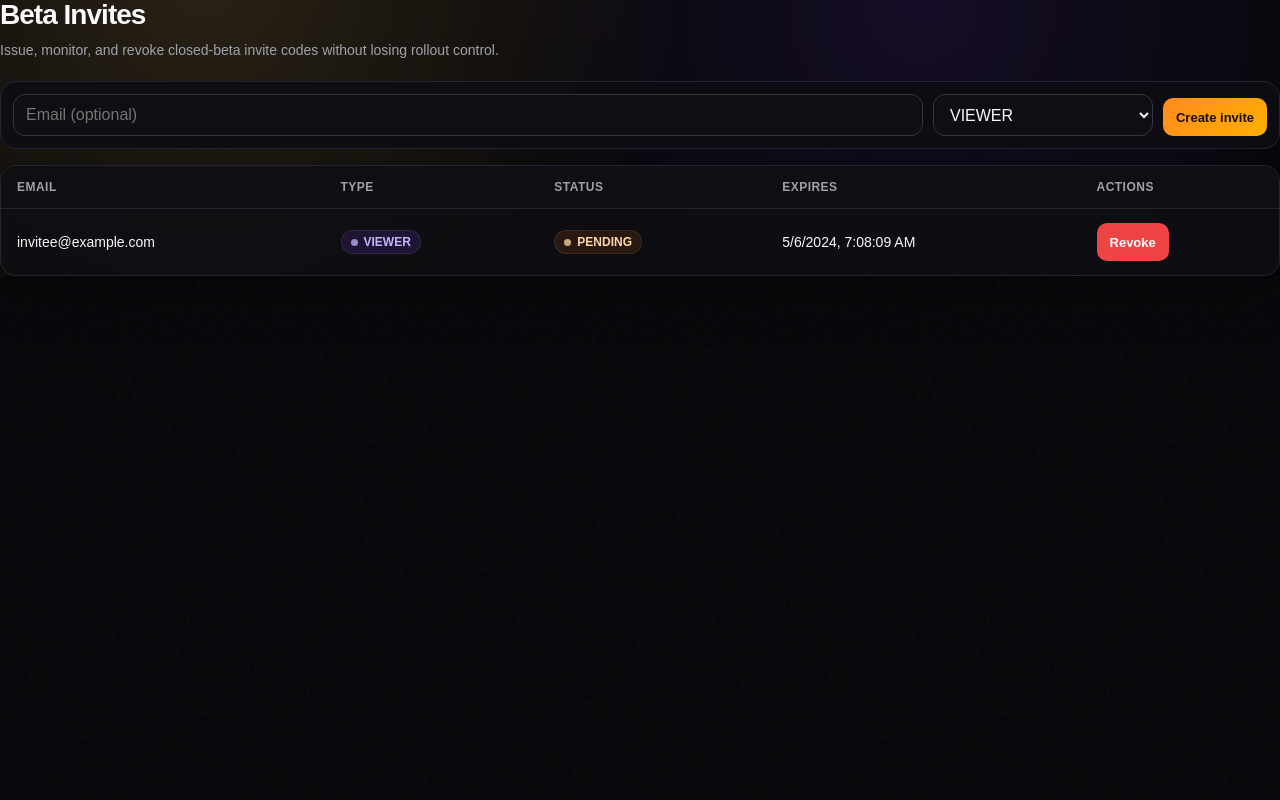
Scenario: BetaInvitesPage › does not revoke when the dialog is cancelled
Expected: the text "invitee@example.com" is shown, [1, 209, 324, 275]
Click the button "Revoke". click: (1133, 242)
box: [1096, 223, 1169, 261]
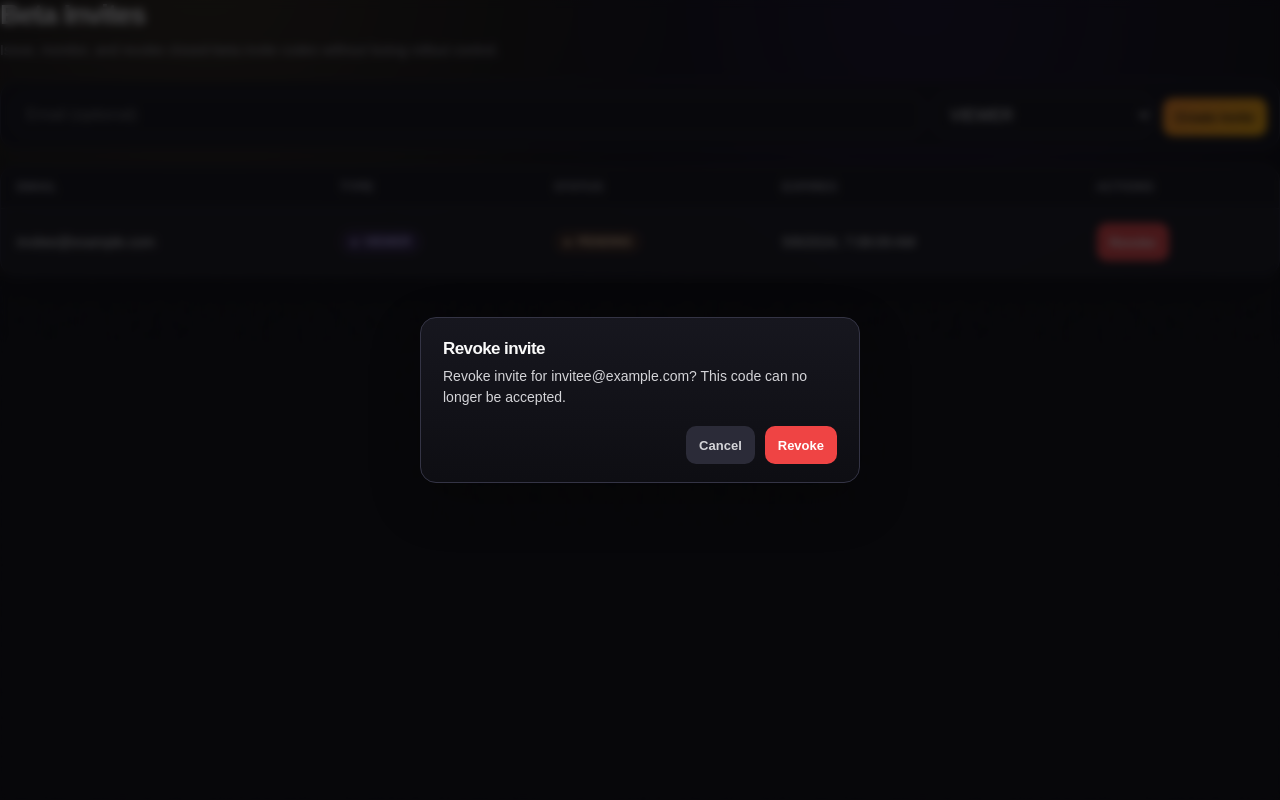
Click the button "Cancel". click: (720, 445)
box: [686, 426, 755, 464]
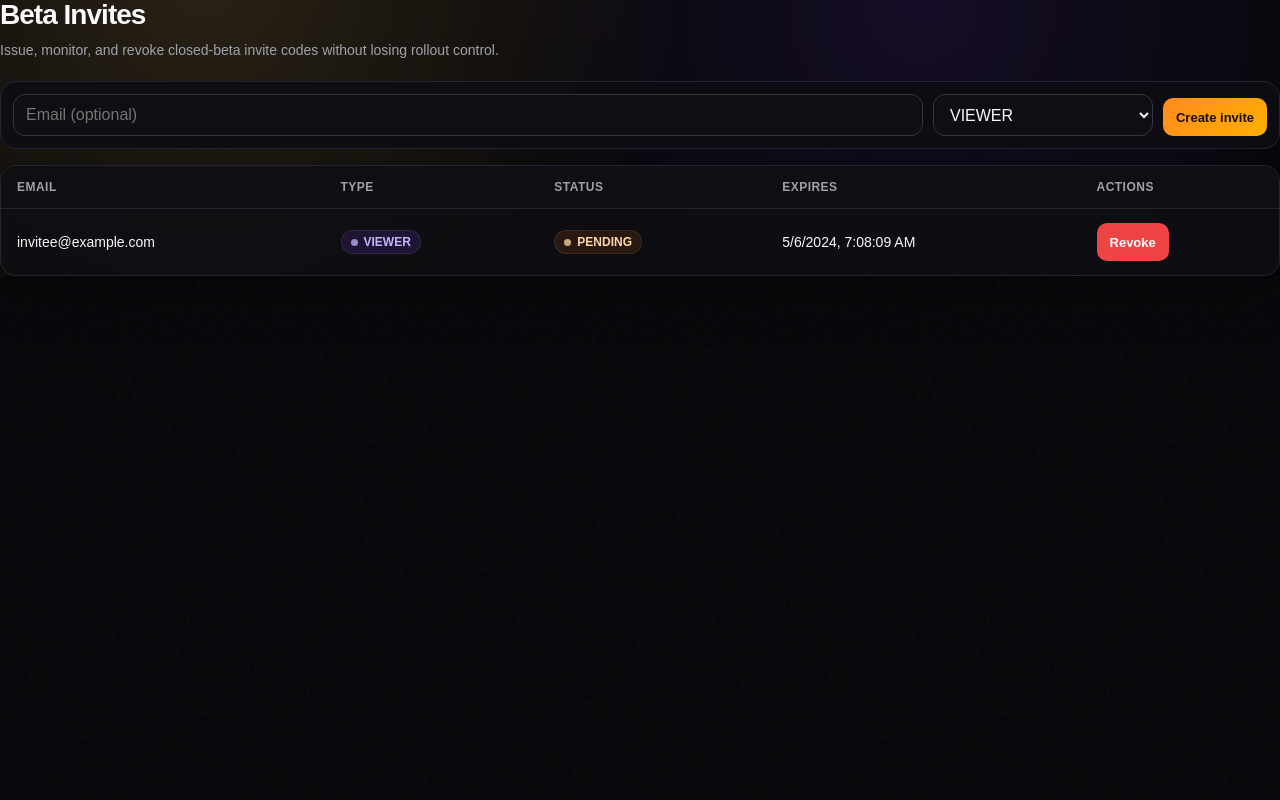
Expected: the dialog is gone
